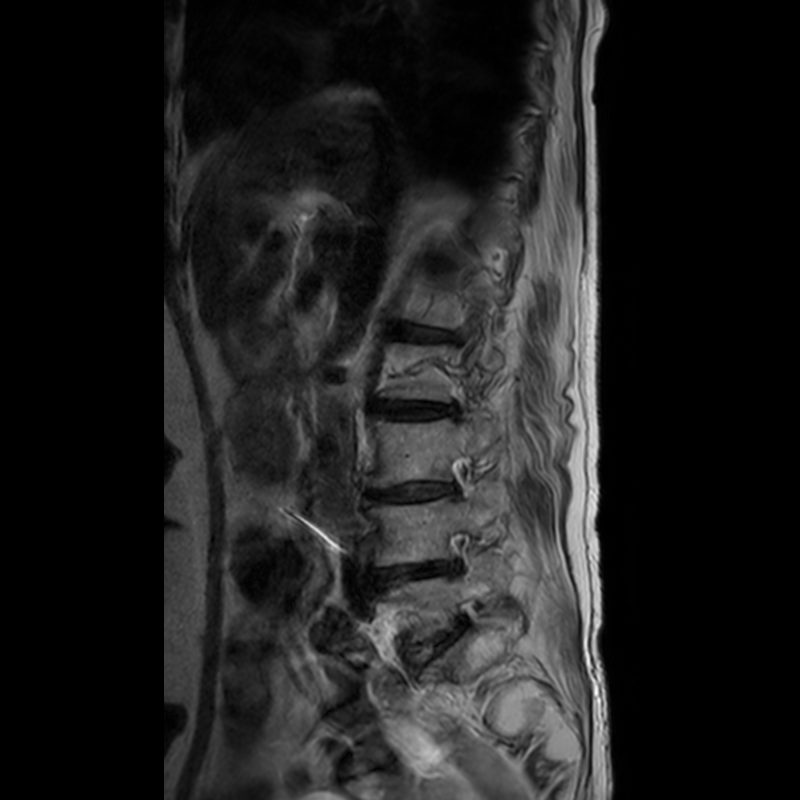RFS0: (436, 448, 489, 516)
RFS1: (431, 524, 482, 588)
